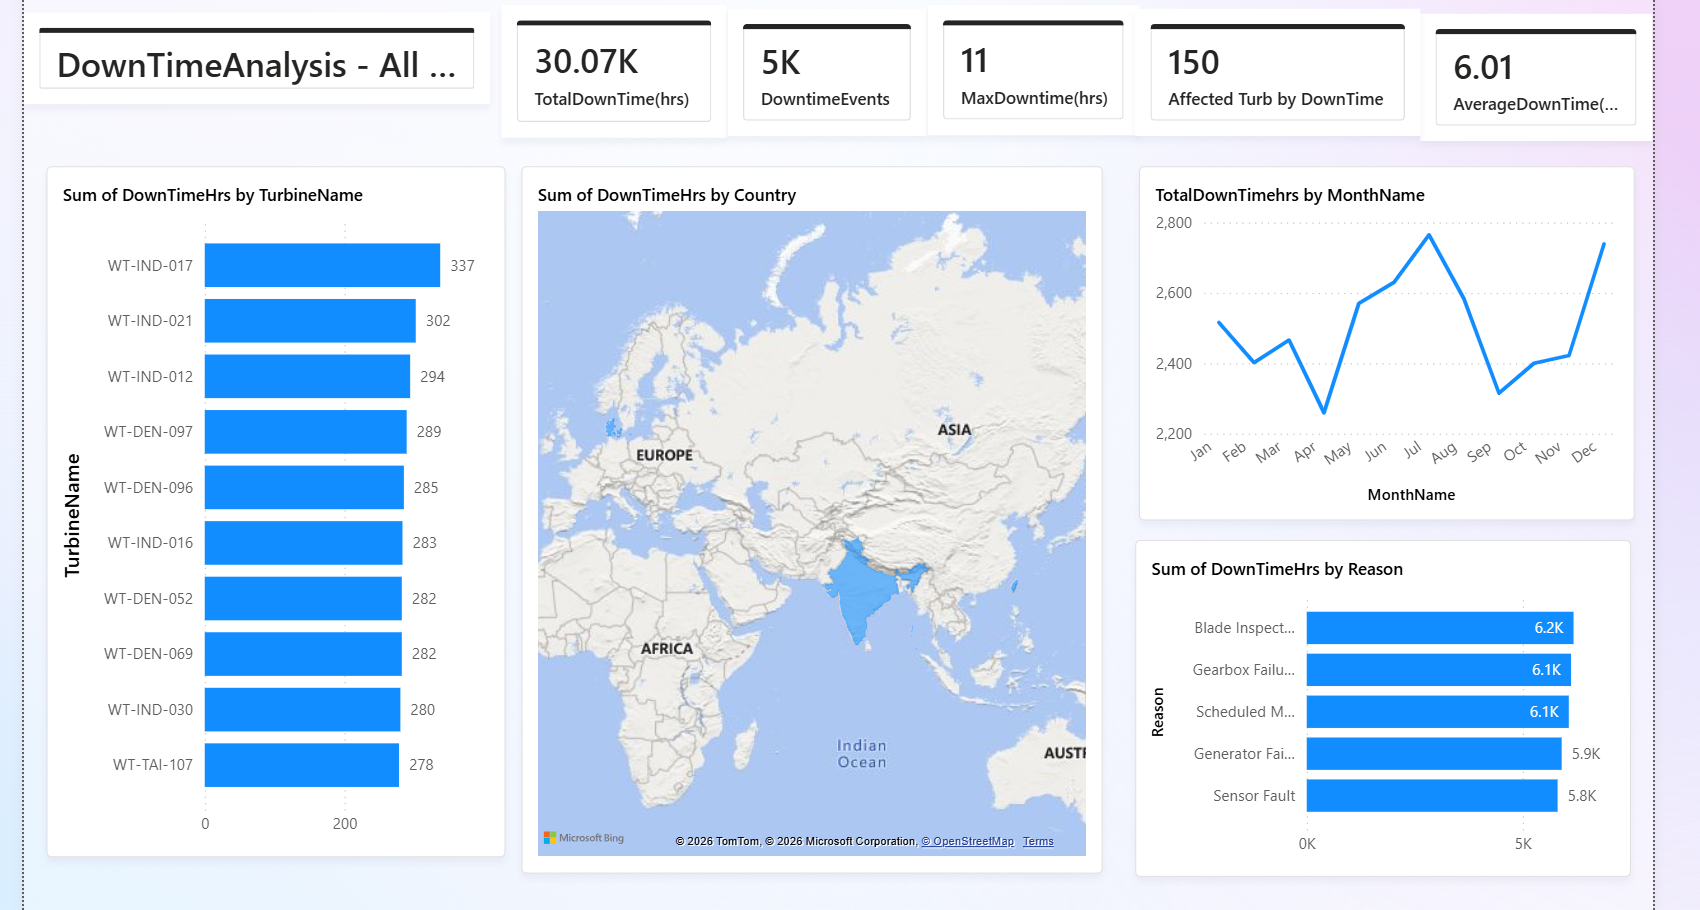

This screenshot's page, from the dashboard's own definition file:
{"tool":"powerbi","page":{"name":"Downtime Analysis Dashboard","canvas":[1280,720],"ordinal":3},"visuals":[{"type":"cardVisual","fields":{"Data":["Measure.TotalDownTime"]},"box":[375.6,8.1,177.9,104.7],"z":0},{"type":"cardVisual","fields":{"Data":["Measure.DowntimeEvents"]},"box":[553.5,10.5,157,100],"z":1000},{"type":"cardVisual","fields":{"Data":["Measure.AverageDownTime"]},"box":[1097.7,15.1,182.6,100],"z":2000},{"type":"cardVisual","fields":{"Data":["Measure.MaxDowntime"]},"box":[710.5,8.1,166.3,102.3],"z":3000},{"type":"cardVisual","fields":{"Data":["Measure.Affected Turb by DownTime"]},"box":[873.3,10.5,224.4,100],"z":4000},{"type":"lineChart","fields":{"Category":["DimDate.MonthName"],"Y":["Measure.TotalDownTimehrs"]},"box":[876.8,134.5,389.7,278.6],"z":5000},{"type":"barChart","fields":{"Category":["FactDowntime.Reason"],"Y":["Sum(FactDowntime.DownTimeHrs)"]},"box":[873.3,427.9,389.5,265.1],"z":6000},{"type":"barChart","fields":{"Y":["Sum(FactDowntime.DownTimeHrs)"],"Category":["DimTurbines.TurbineName"]},"box":[17.8,134.5,360.9,543.4],"z":7000},{"type":"filledMap","fields":{"Category":["DimTurbines.Country","DimTurbines.Site","DimTurbines.TurbineID","DimTurbines.TurbineName"]},"box":[391.1,134.5,456.9,555.7],"z":8000},{"type":"cardVisual","fields":{"Data":["Measure.Downtimetitle"]},"box":[0,14,366.3,72.1],"z":9000}]}

Visuals, with their boxes on the page's 1280x720 design canvas (x1, y1, x2, y2). These are canvas units, not pixel positions in the 1700x910 screenshot, which may show the page scaled, cropped or inside an application window:
cardVisual - Measure.TotalDownTime: rect(376, 8, 554, 113)
cardVisual - Measure.DowntimeEvents: rect(554, 10, 710, 110)
cardVisual - Measure.AverageDownTime: rect(1098, 15, 1280, 115)
cardVisual - Measure.MaxDowntime: rect(710, 8, 877, 110)
cardVisual - Measure.Affected Turb by DownTime: rect(873, 10, 1098, 110)
lineChart - DimDate.MonthName x Measure.TotalDownTimehrs: rect(877, 134, 1266, 413)
barChart - FactDowntime.Reason x Sum(FactDowntime.DownTimeHrs): rect(873, 428, 1263, 693)
barChart - Sum(FactDowntime.DownTimeHrs) x DimTurbines.TurbineName: rect(18, 134, 379, 678)
filledMap - DimTurbines.Country x DimTurbines.Site: rect(391, 134, 848, 690)
cardVisual - Measure.Downtimetitle: rect(0, 14, 366, 86)
